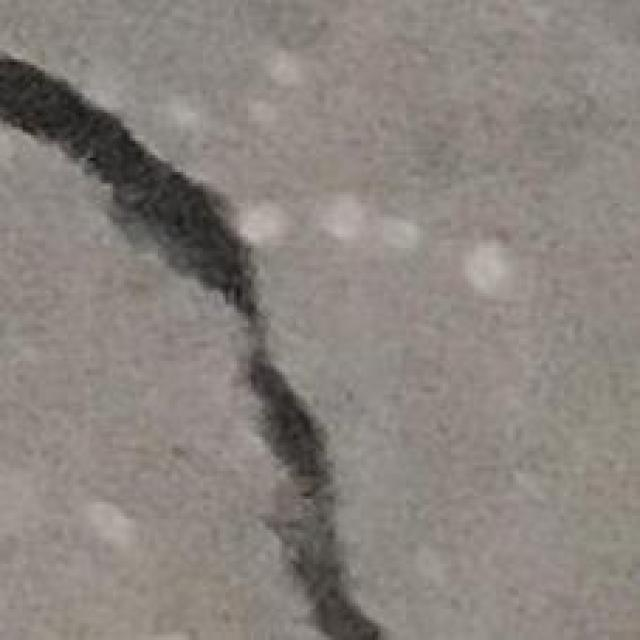Crack: (0, 51, 378, 637)
